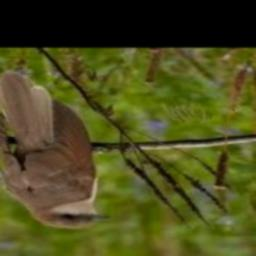Cuckoo: (0, 71, 112, 229)
